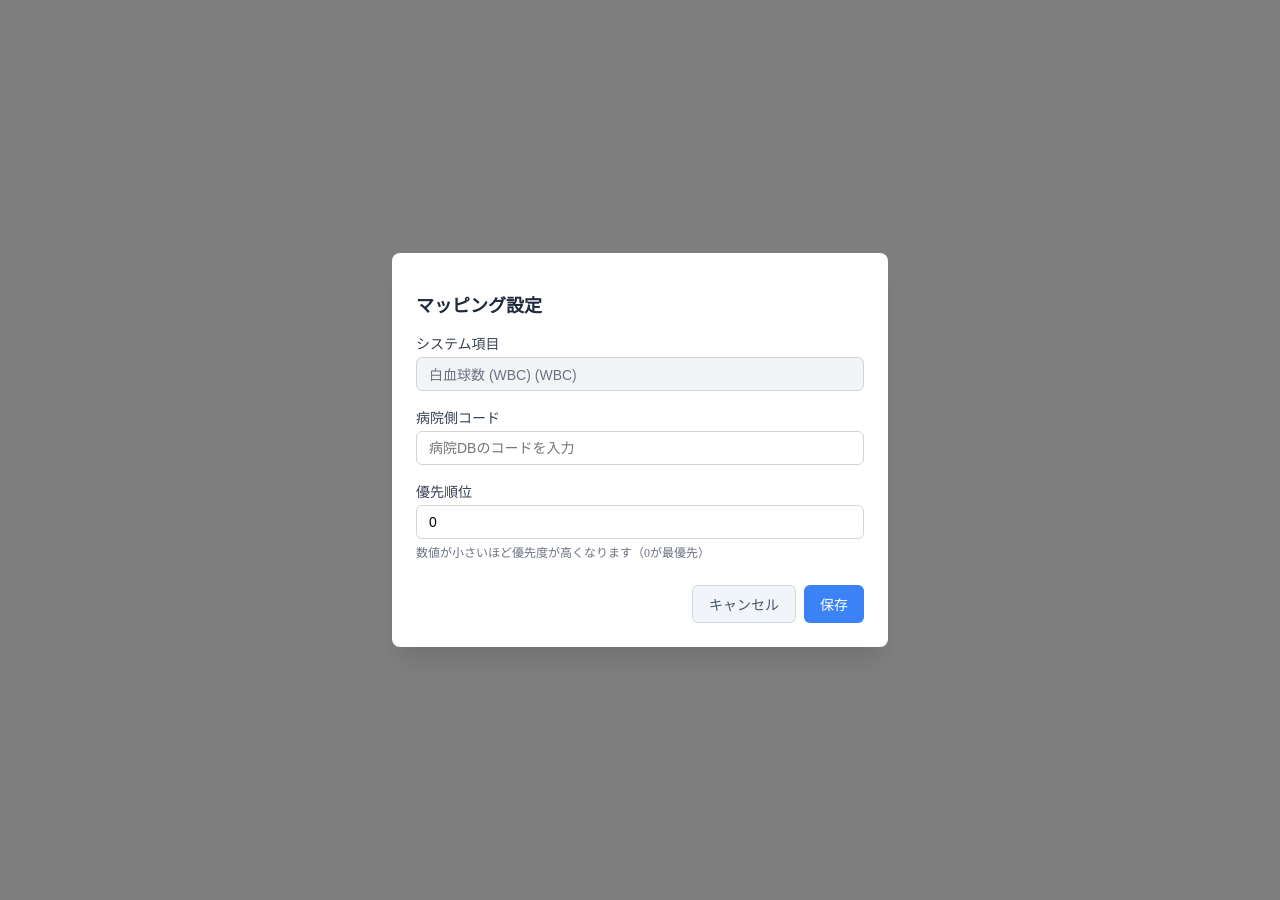
Test case: DataMappingForm › バリデーション › 病院側コードが空の場合にエラーメッセージを表示する
Click the button "保存".
click(834, 604)  # box [804,586,864,624]
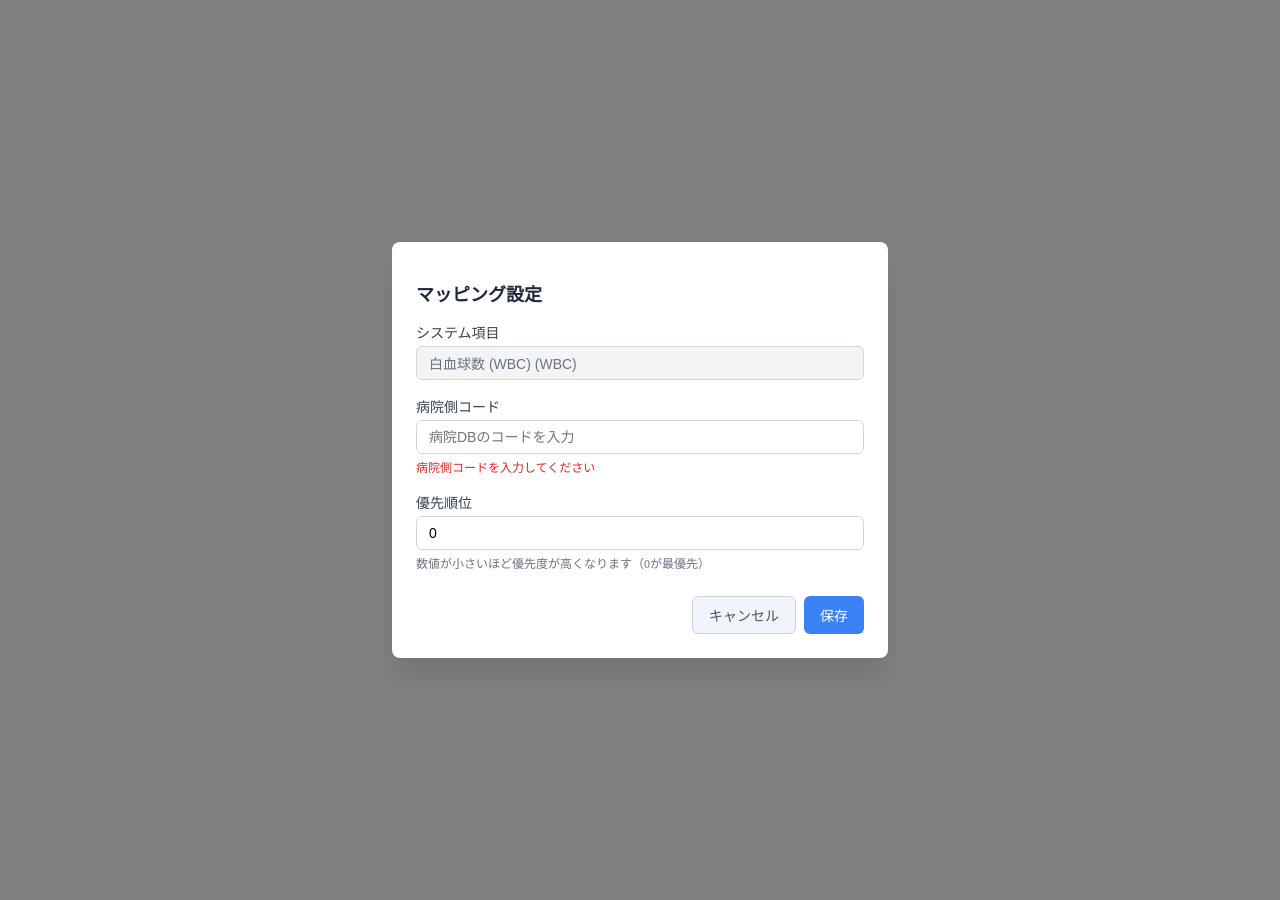
Expected: the text "病院側コードを入力してください" is shown, [416,462,595,476]
